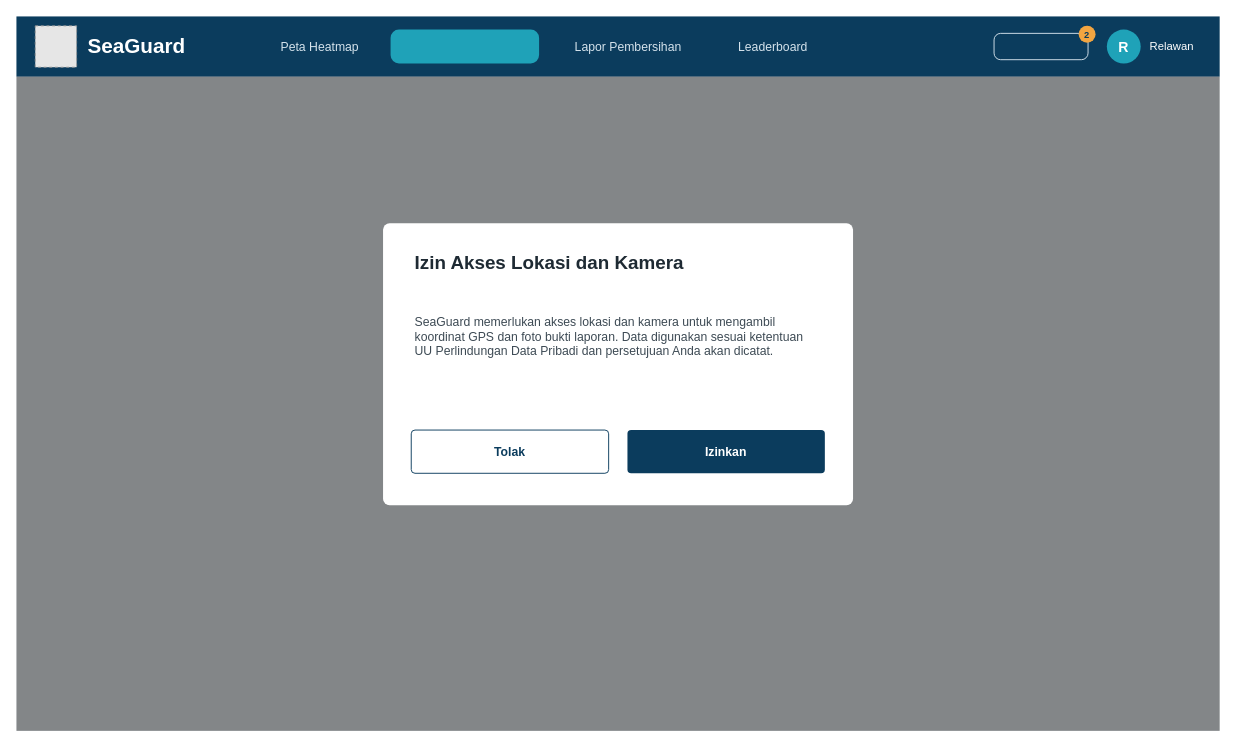
The diagram is 1237 pixels wide and 746 high, and some of its shapes have lost their labels. Grey dashed boxes stand in for pictures. The shapes that lost their labels are listed below. From the top down, each one's box as (x1, y1, x2, y2) in pixels, then its label:
(390, 29, 539, 63): Lapor Pencemaran
(993, 32, 1088, 60): Notifikasi
